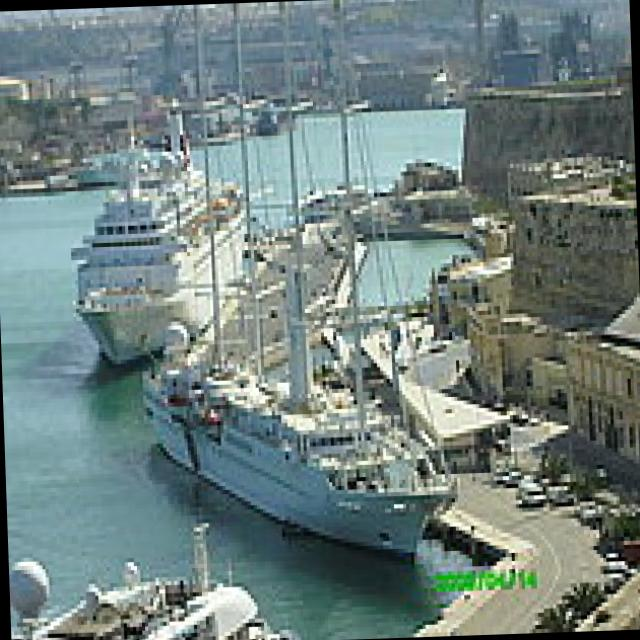boat: (144, 346, 462, 558), (46, 153, 259, 350)
